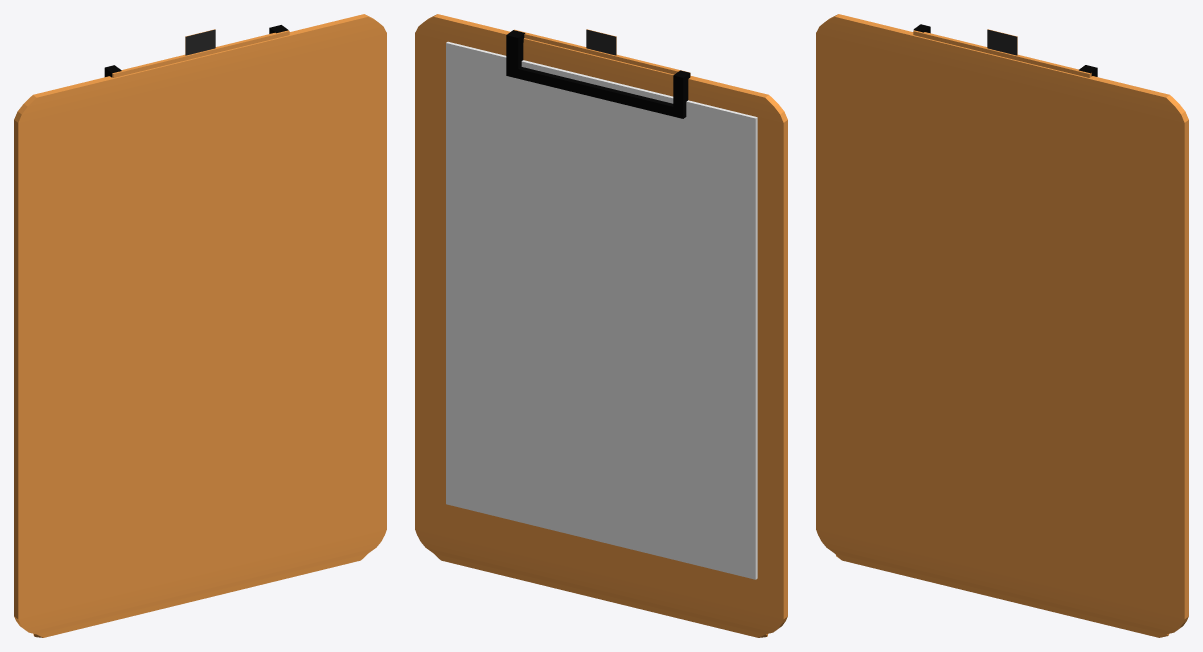
File: Desk_paper.fbx
3 renders of one model, left to right at view 1: azimuth 30°, elevation 25°; view 2: azimuth 150°, elevation 25°; view 3: azimuth 330°, elevation 25°, orthographic.
Visible parts, largest first — view 1: Cube.002; view 2: Cube.002; view 3: Cube.002.
Boxes of the visible parts, bbox=[...] form: Cube.002: bbox=[14, 14, 386, 637]; Cube.002: bbox=[415, 14, 787, 637]; Cube.002: bbox=[816, 14, 1188, 637].
Size of the model in its own units: 332 by 487 by 14.42.
